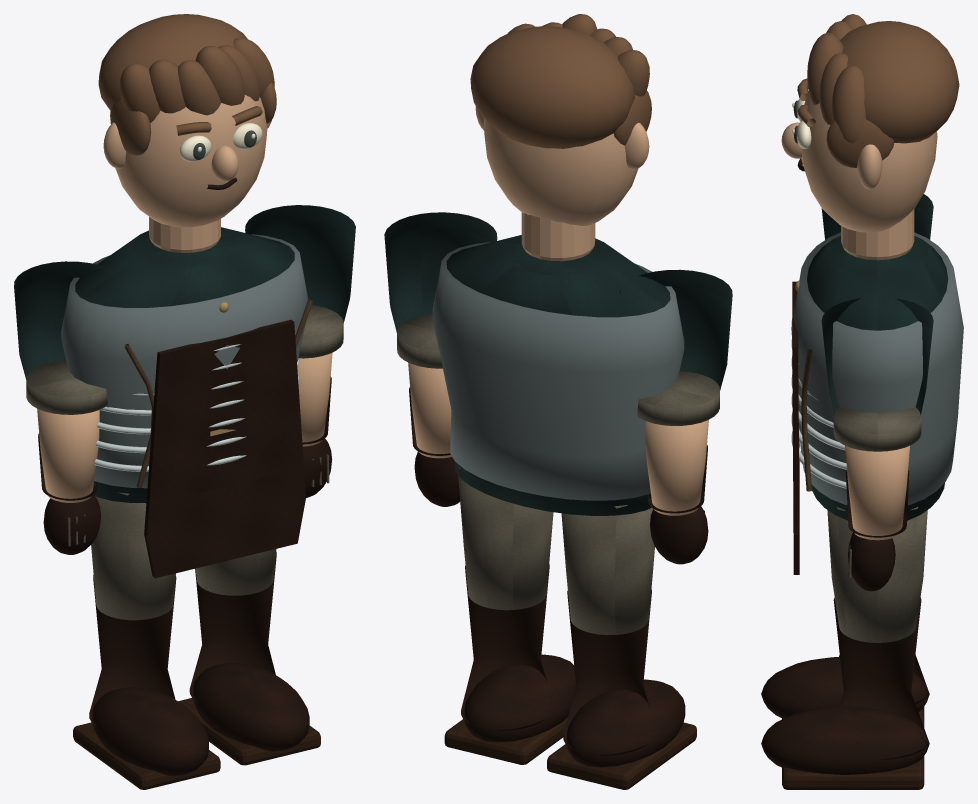
The model's file is character.glb.
3 views of the same model, side by side, from view 1: azimuth 30°, elevation 25°; view 2: azimuth 150°, elevation 25°; view 3: azimuth 270°, elevation 25° (orthographic).
Parts seen in each view (by area): view 1: Apron_Oiled leather, Mail_Blackened iron, Part_Chestnut hair, Part_Warm skin.002, Part_Oiled leather.006, Part_Oiled leather.003, Part_House teal.001, Part_Warm linen.003, Part_House teal, Part_House teal.002, Part_Warm skin.001, Part_Warm linen.005 (+10 smaller); view 2: Mail_Blackened iron, Part_Chestnut hair, Part_House teal.001, Part_Warm skin.002, Part_Oiled leather.006, Part_Oiled leather.003, Part_Warm linen.003, Part_Warm linen.004, Part_House teal, Part_House teal.002, Part_Warm skin.001, Part_Warm skin (+6 smaller); view 3: Mail_Blackened iron, Part_Chestnut hair, Part_Oiled leather.003, Part_Warm skin.002, Part_House teal.001, Part_Warm linen.004, Part_Warm skin, Part_Oiled leather.006, Part_Warm linen.001, Part_Oak end grain, Part_House teal, Part_Oiled leather.005 (+6 smaller).
Boxes of the visible parts, x1,y1,x2,y2 form: Apron_Oiled leather: (144, 319, 305, 578); Mail_Blackened iron: (61, 234, 308, 488); Part_Chestnut hair: (98, 14, 276, 155); Part_Warm skin.002: (103, 95, 271, 252); Part_Oiled leather.006: (89, 574, 208, 775); Part_Oiled leather.003: (189, 552, 309, 751); Part_House teal.001: (75, 227, 294, 502); Part_Warm linen.003: (91, 492, 175, 620); Part_House teal: (245, 205, 355, 323); Part_House teal.002: (14, 261, 124, 379); Part_Warm skin.001: (37, 408, 99, 502); Part_Warm linen.005: (26, 361, 107, 414); Mail_Blackened iron: (432, 242, 684, 500); Part_Chestnut hair: (470, 14, 651, 148); Part_House teal.001: (446, 235, 670, 515); Part_Warm skin.002: (475, 106, 649, 261); Part_Oiled leather.006: (563, 589, 685, 767); Part_Oiled leather.003: (461, 564, 575, 742); Part_Warm linen.003: (561, 505, 654, 635); Part_Warm linen.004: (458, 465, 553, 610); Part_House teal: (384, 212, 497, 333); Part_House teal.002: (619, 269, 732, 390); Part_Warm skin.001: (645, 420, 708, 515); Part_Warm skin: (408, 362, 451, 458); Mail_Blackened iron: (791, 232, 963, 505); Part_Chestnut hair: (797, 14, 959, 167); Part_Oiled leather.003: (761, 597, 929, 774); Part_Warm skin.002: (781, 91, 937, 260); Part_House teal.001: (807, 236, 948, 520); Part_Warm linen.004: (827, 506, 927, 642); Part_Warm skin: (845, 445, 909, 540); Part_Oiled leather.006: (761, 654, 929, 718); Part_Warm linen.001: (833, 407, 921, 451); Part_Oak end grain: (782, 756, 924, 789); Part_House teal: (821, 298, 933, 415); Part_Oiled leather.005: (848, 532, 895, 591).
Bounding box in the file's own units: 0.782 × 1.63 × 0.416.
Materials: 12 (5 with a texture image).
